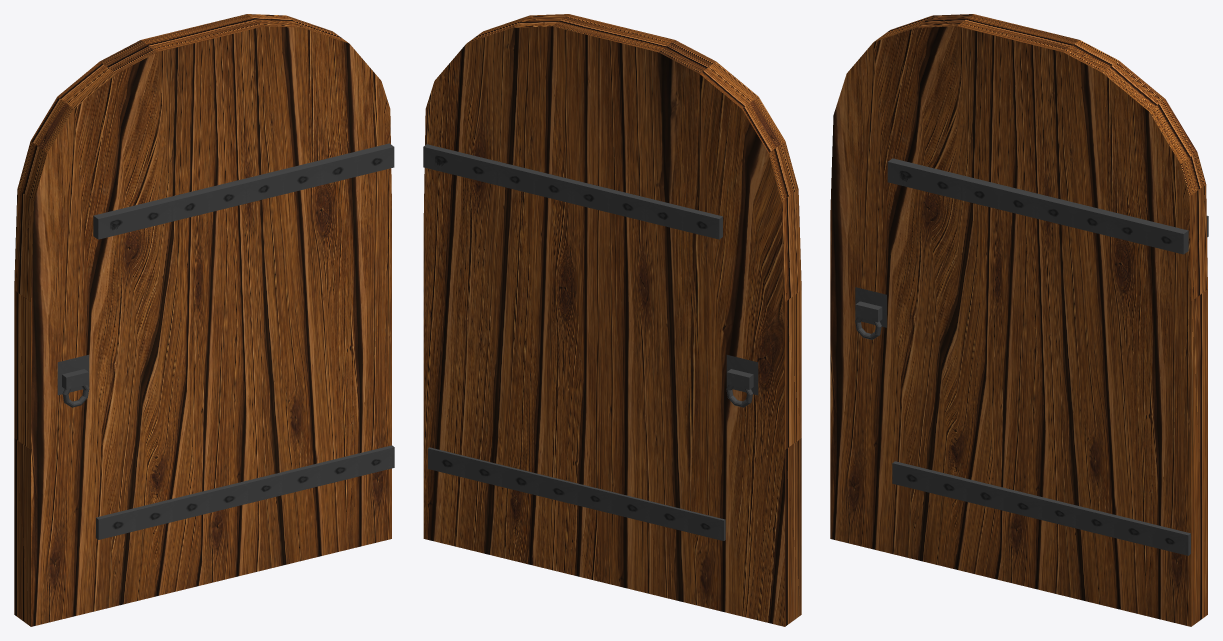
Rendered from castleTruedoor.glb.
3 renders of one model, left to right at view 1: azimuth 30°, elevation 25°; view 2: azimuth 150°, elevation 25°; view 3: azimuth 330°, elevation 25°, orthographic.
Visible parts, largest first — view 1: Cube, Cube.002, Cube.001, Plane; view 2: Cube, Cube.005, Cube.004, Plane.001; view 3: Cube, Cube.002, Cube.001, Plane.
Part boxes in pixels (<box>): Cube: <box>14,14,391,626</box>; Cube.002: <box>93,143,394,239</box>; Cube.001: <box>96,445,394,539</box>; Plane: <box>57,355,89,395</box>; Cube: <box>423,14,801,626</box>; Cube.005: <box>423,144,722,239</box>; Cube.004: <box>428,447,725,540</box>; Plane.001: <box>726,355,758,395</box>; Cube: <box>830,14,1207,626</box>; Cube.002: <box>887,158,1188,254</box>; Cube.001: <box>892,461,1190,555</box>; Plane: <box>855,287,886,327</box>.
Size of the model in its own units: 0.6845 by 0.985 by 0.0885.
Materials: 3 (3 with a texture image).
